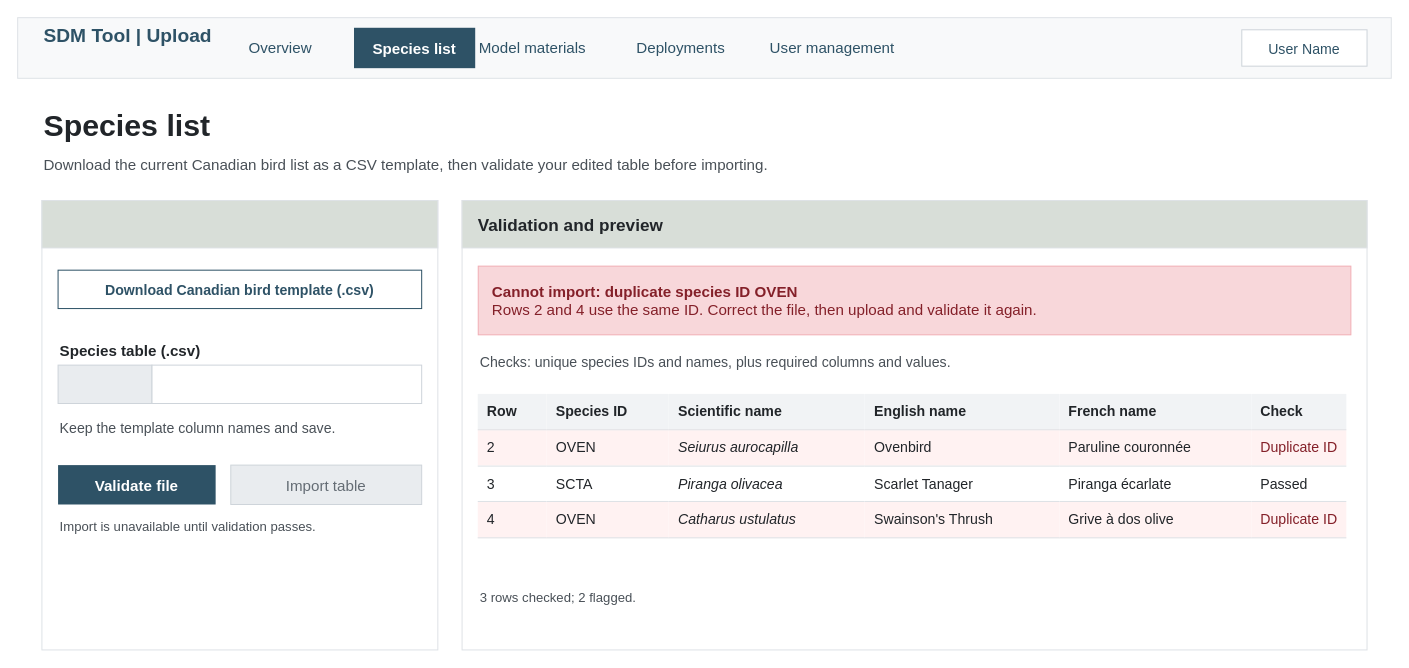
This 1409x668 diagram has some shape labels left out. The shapes that lost their labels are listed below. From the top down, each one's centre as x and y in pixels, then its label:
pixel 239 223: Upload species table
pixel 104 383: Browse...
pixel 286 383: boreal-species.csv
